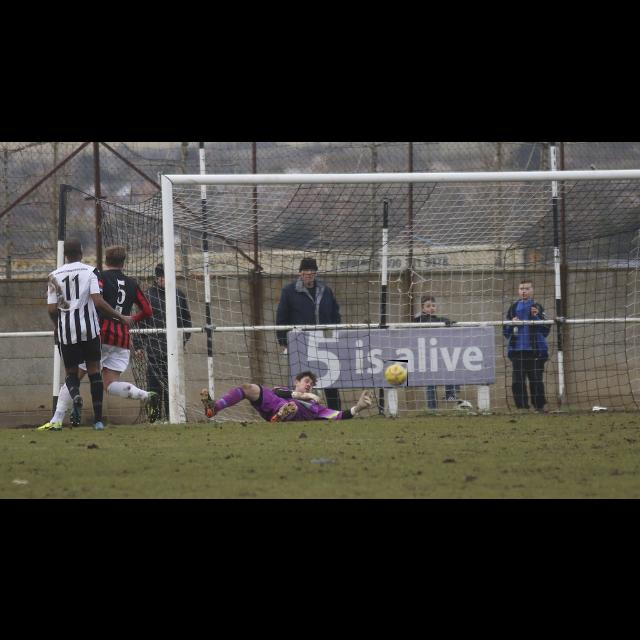Football: (384, 360, 408, 386)
